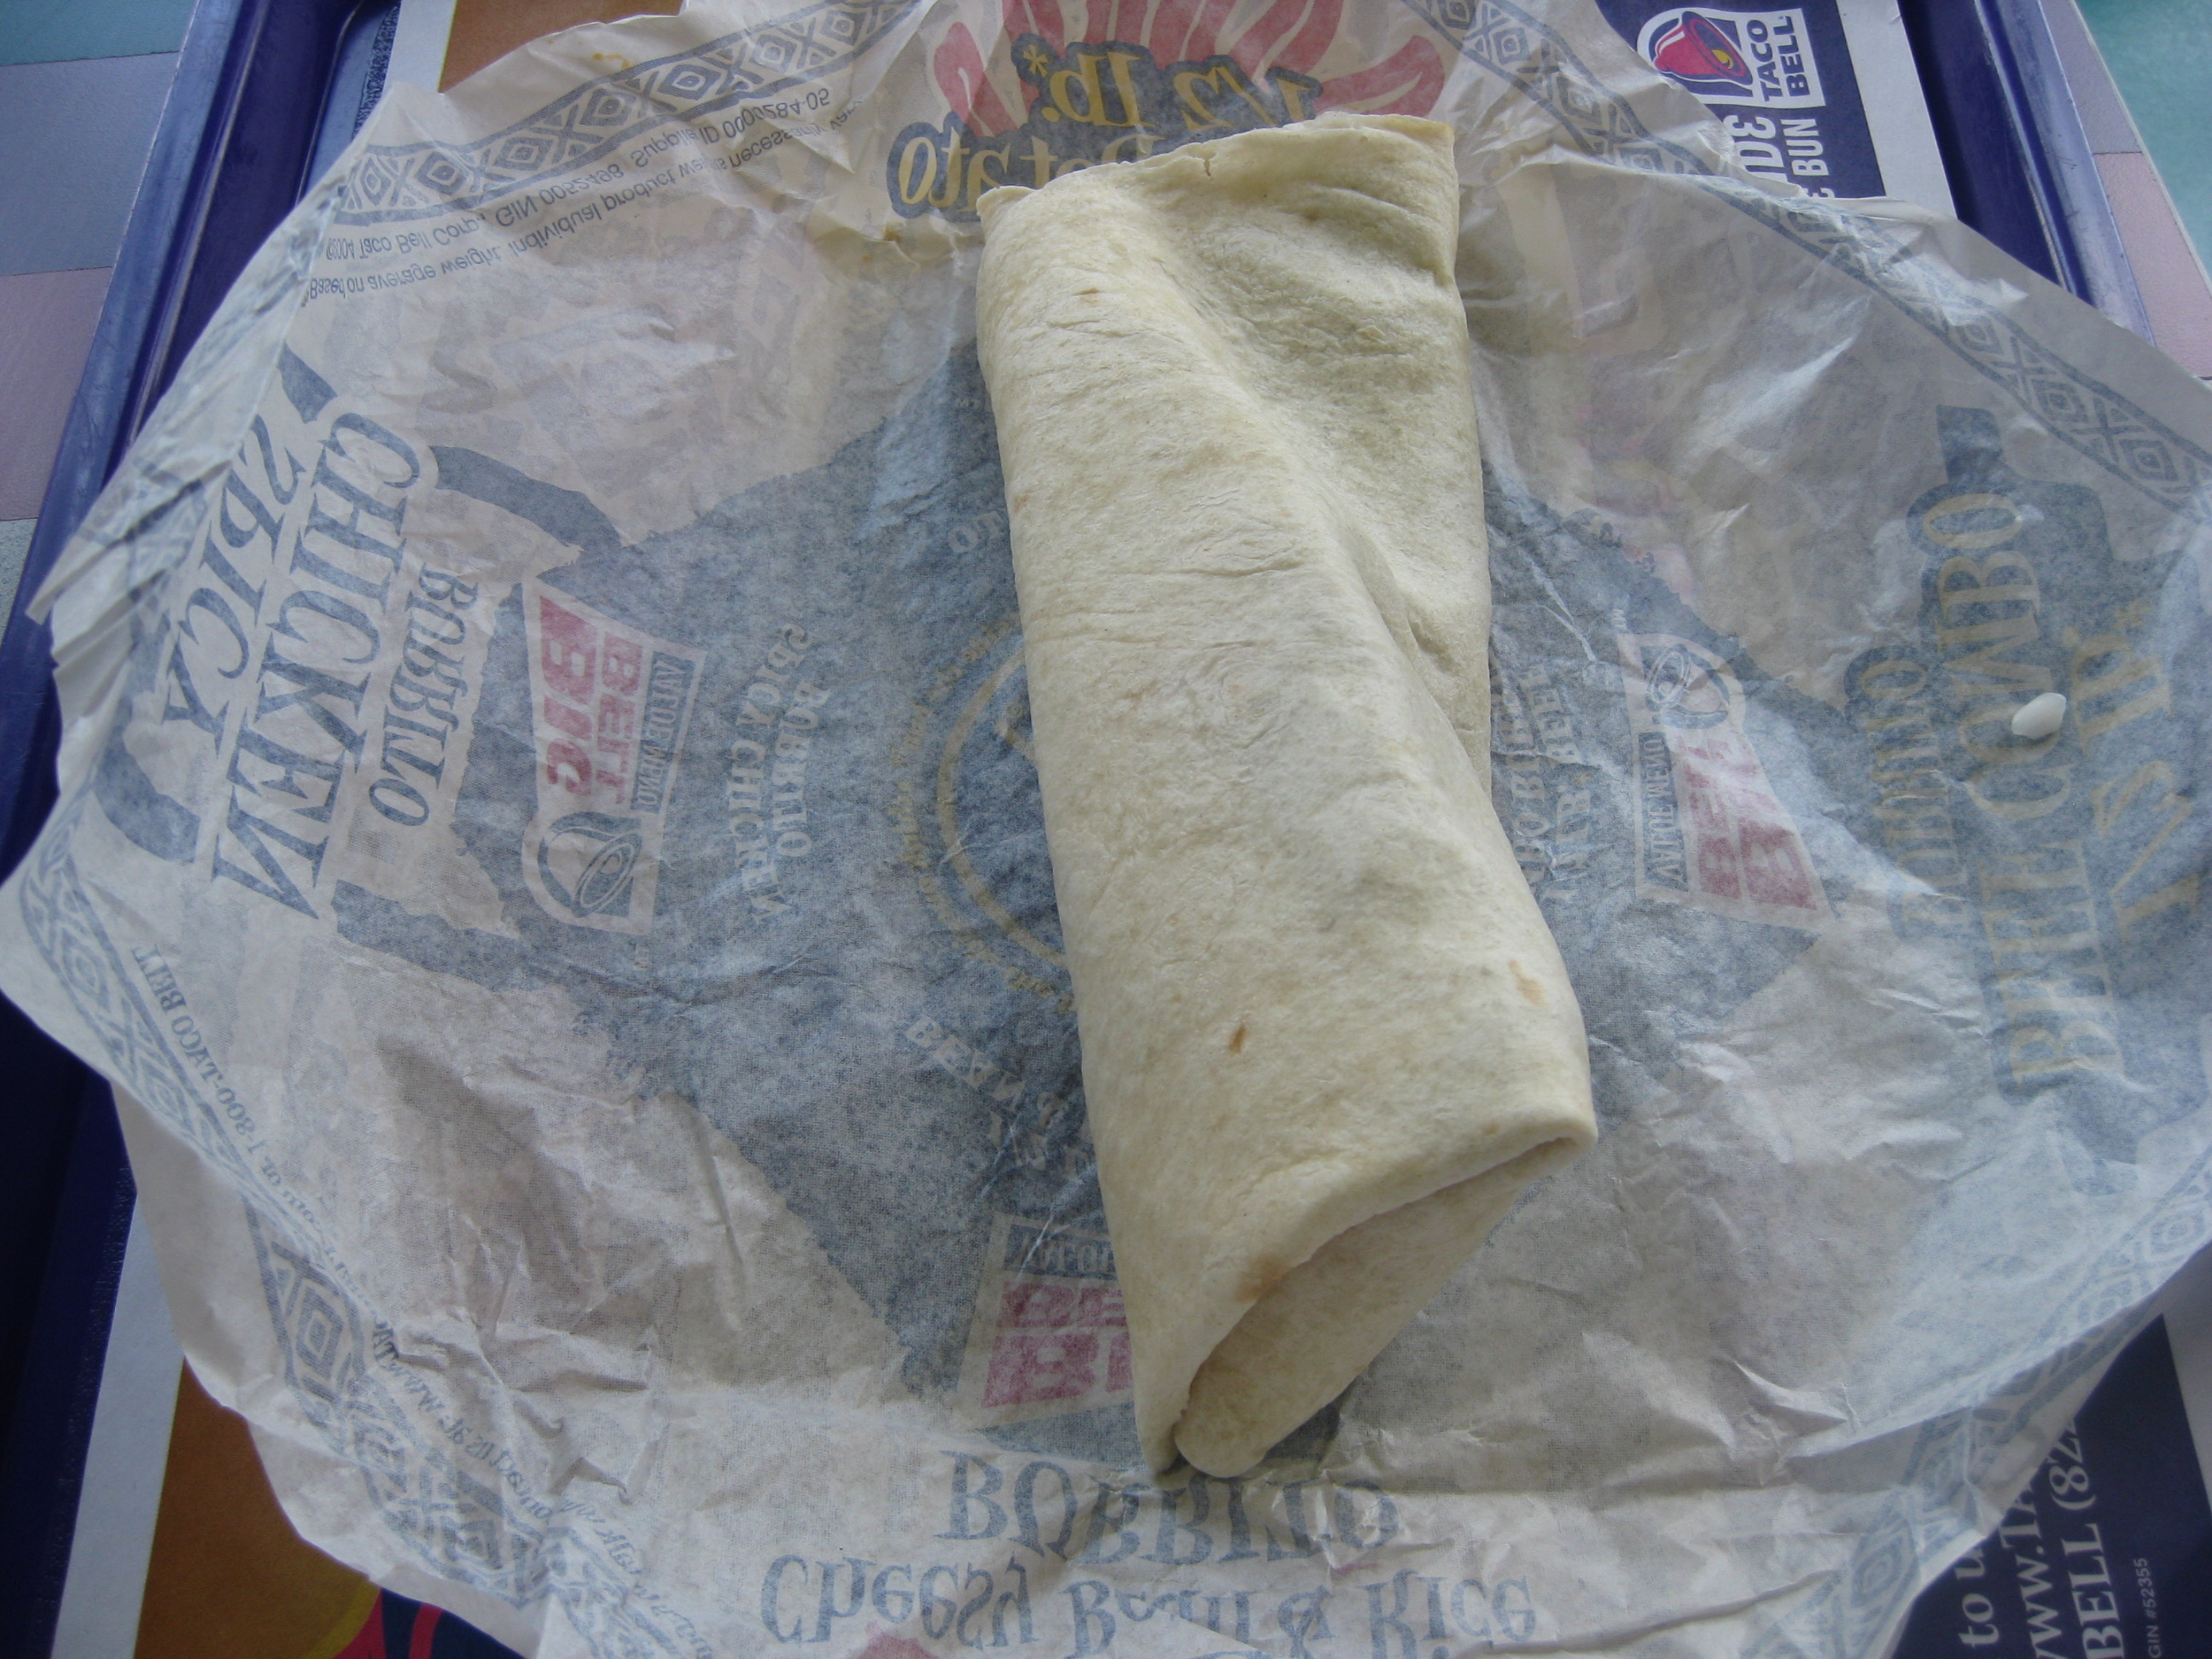burrito: (942, 91, 1708, 1467)
